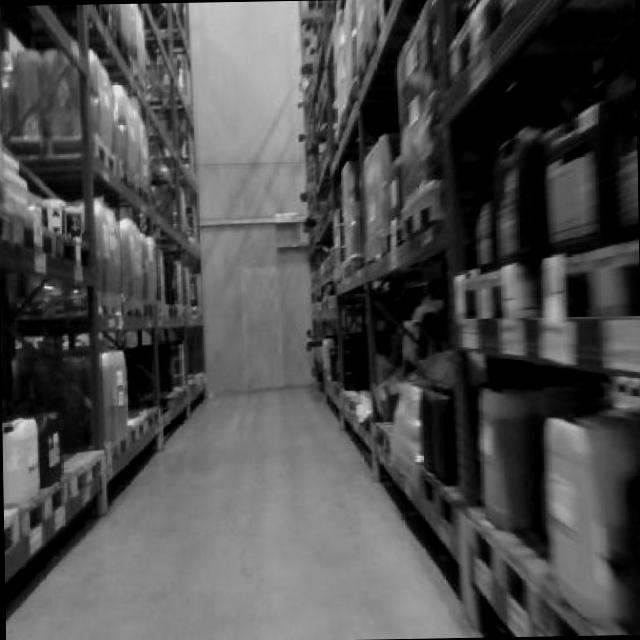pallet: (435, 531, 640, 638), (431, 237, 640, 324), (2, 448, 107, 558)
